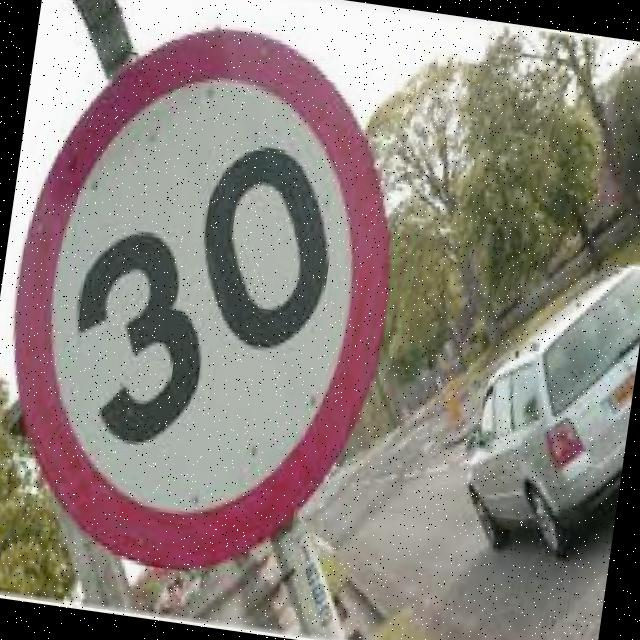Ograniczenie predkosci do 30: (0, 14, 413, 590)
